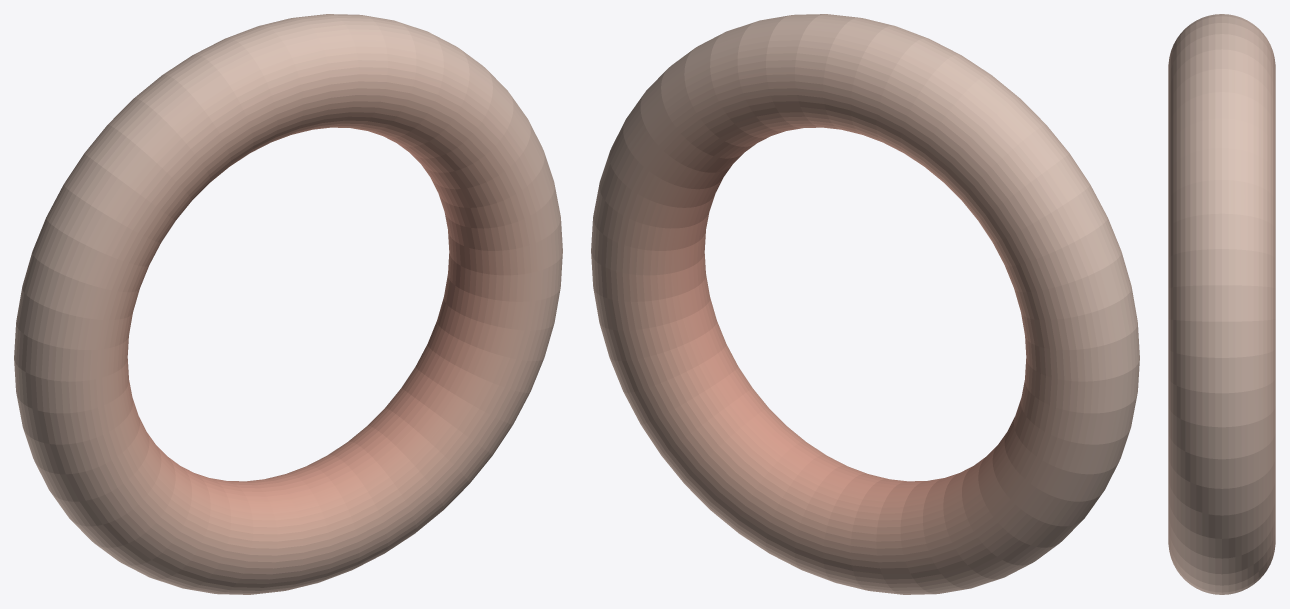
3 renders of one model, left to right at view 1: azimuth 30°, elevation 25°; view 2: azimuth 150°, elevation 25°; view 3: azimuth 270°, elevation 25°, orthographic. The views are drawn at different scales.
Visible parts, largest first — view 1: world; view 2: world; view 3: world.
Part boxes in pixels (<box>): world: <box>14,14,562,594</box>; world: <box>591,14,1139,594</box>; world: <box>1168,14,1275,594</box>.
Bounding box in the file's own units: 31.07 × 31.01 × 5.72.
